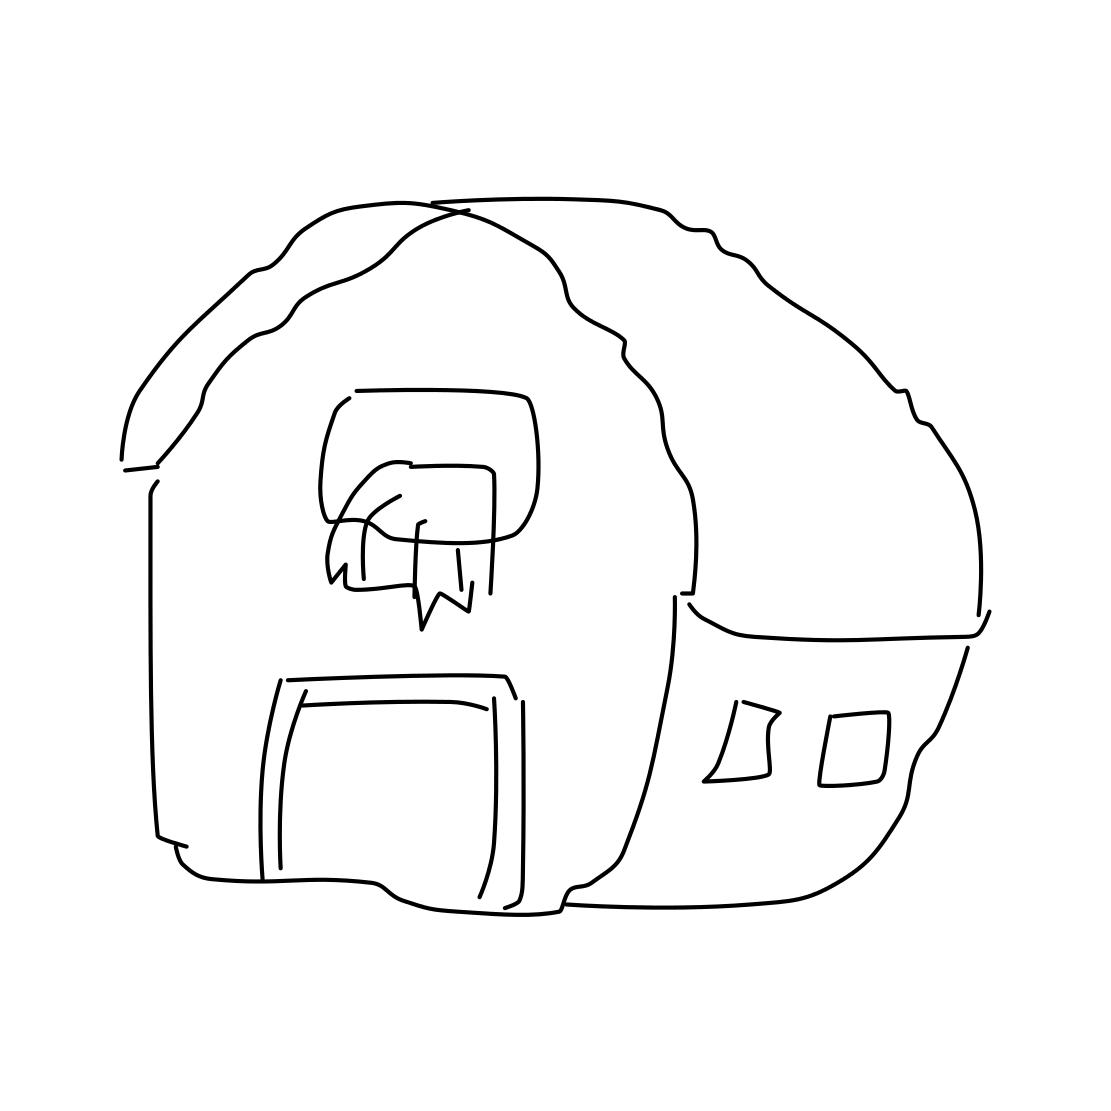House: (66, 132, 1008, 940)
